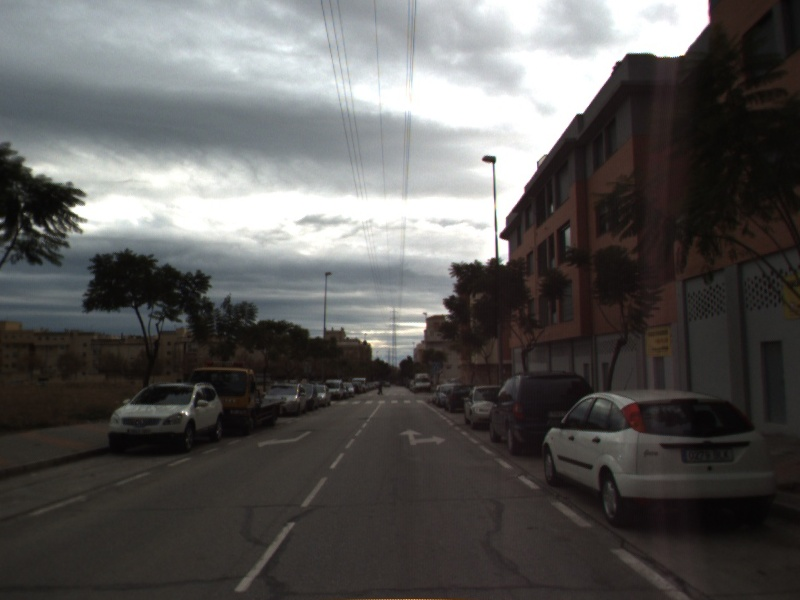STRAIGHT_RIGHT: (397, 426, 448, 447)
